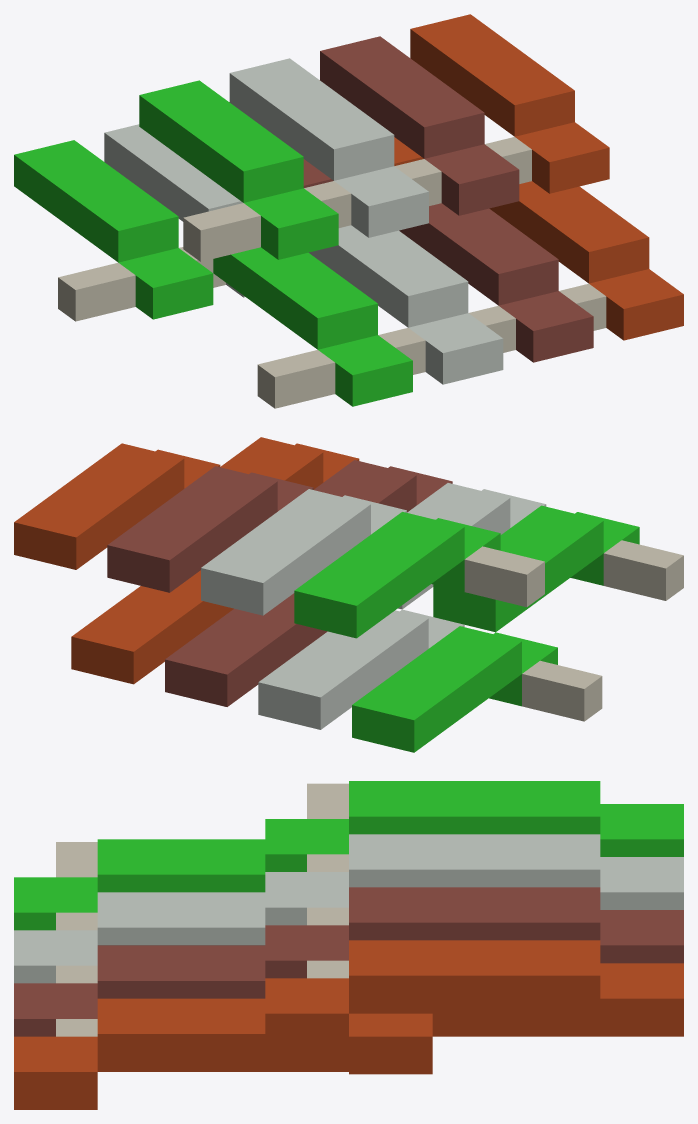
File: food.vox-6-z-kkochi-jeon.obj
3 renders of one model, top to bottom at view 1: azimuth 30°, elevation 25°; view 2: azimuth 150°, elevation 25°; view 3: azimuth 270°, elevation 25°, orthographic. The views are drawn at different scales.
Parts seen in each view (by area): view 1: z-kkochi-jeon; view 2: z-kkochi-jeon; view 3: z-kkochi-jeon.
Part boxes in pixels (<box>): z-kkochi-jeon: <box>14,14,683,408</box>; z-kkochi-jeon: <box>14,437,683,752</box>; z-kkochi-jeon: <box>14,781,683,1109</box>.
Bounding box in the file's own units: 1.6 × 0.4 × 1.6.
1 material, 1 textured.
